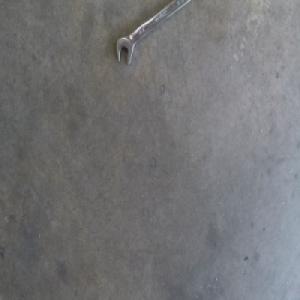Wrench: (116, 0, 188, 64)
